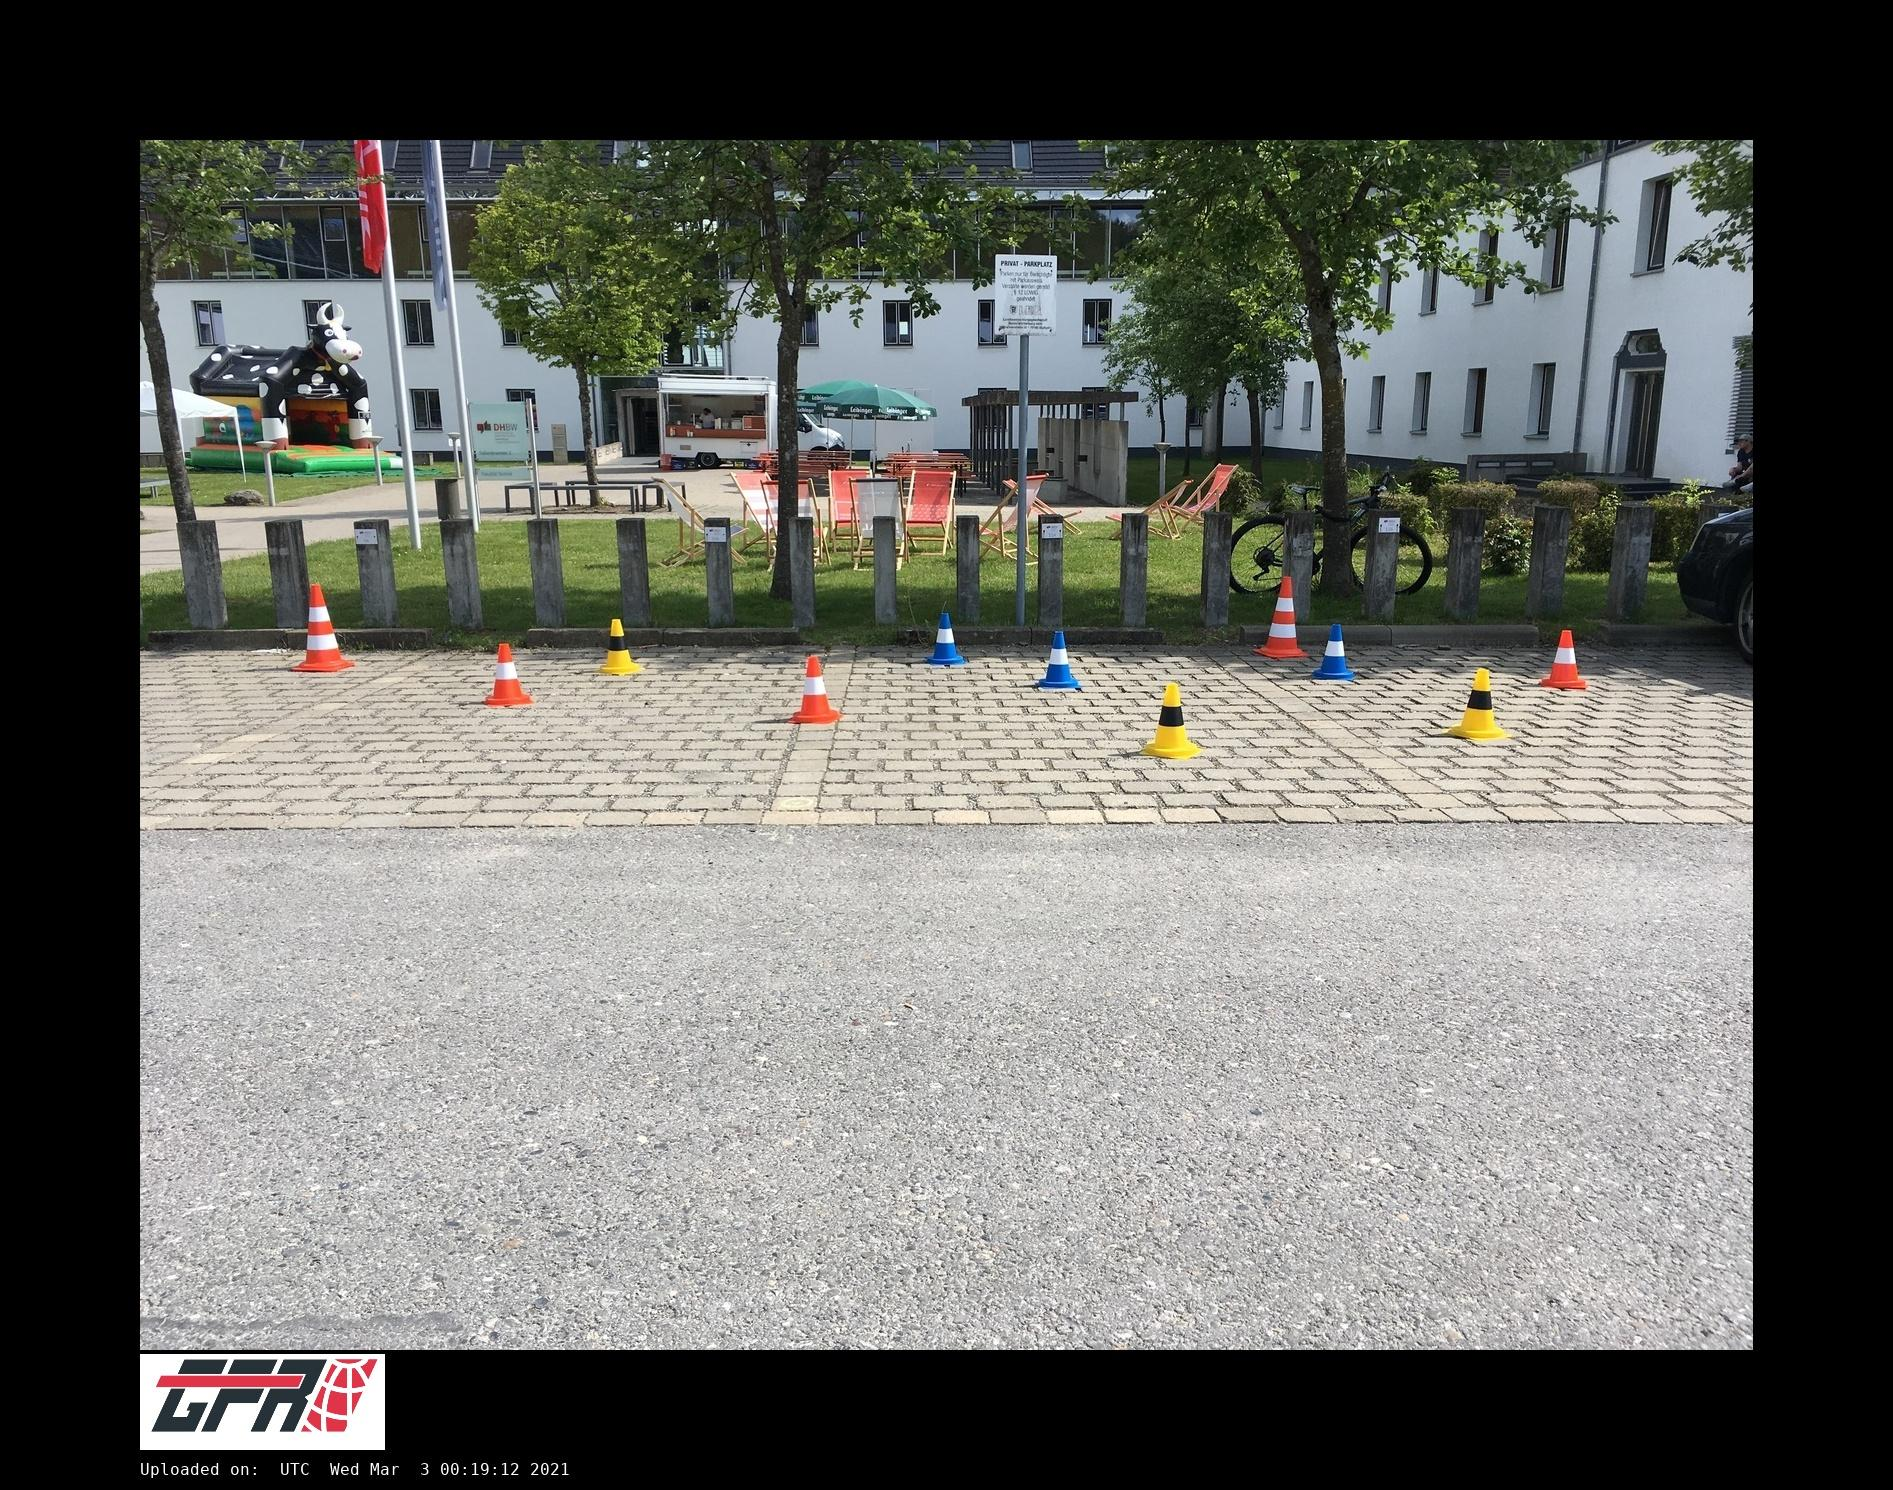blue_cone: (1037, 631, 1083, 688), (1312, 624, 1355, 680), (927, 614, 966, 664)
large_orange_cone: (292, 585, 355, 671), (1252, 576, 1311, 657)
orange_cone: (788, 657, 842, 723), (486, 644, 535, 705), (1541, 630, 1587, 688)
yellow_cone: (1446, 668, 1513, 740), (1143, 684, 1202, 760), (598, 619, 642, 674)
